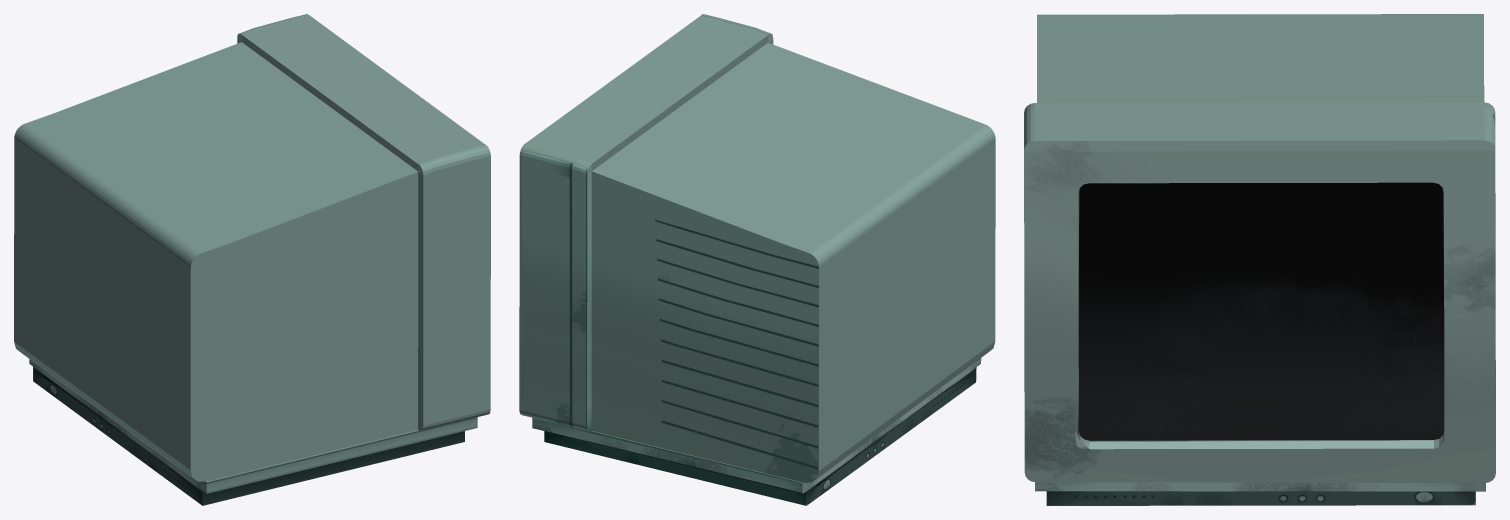
The model's file is ComputerScreenNew.fbx.
3 renders of one model, left to right at view 1: azimuth 30°, elevation 25°; view 2: azimuth 150°, elevation 25°; view 3: azimuth 270°, elevation 25°, orthographic. The views are drawn at different scales.
Parts seen in each view (by area): view 1: ComputerScreenTexture; view 2: ComputerScreenTexture; view 3: ComputerScreenTexture.
Boxes of the visible parts, left/top/right/bottom form: ComputerScreenTexture: left=14, top=14, right=490, bottom=505; ComputerScreenTexture: left=519, top=14, right=995, bottom=505; ComputerScreenTexture: left=1024, top=14, right=1495, bottom=505.
Bounding box in the file's own units: 85.17 × 81.85 × 93.17.
Materials: 1 (1 with a texture image).
